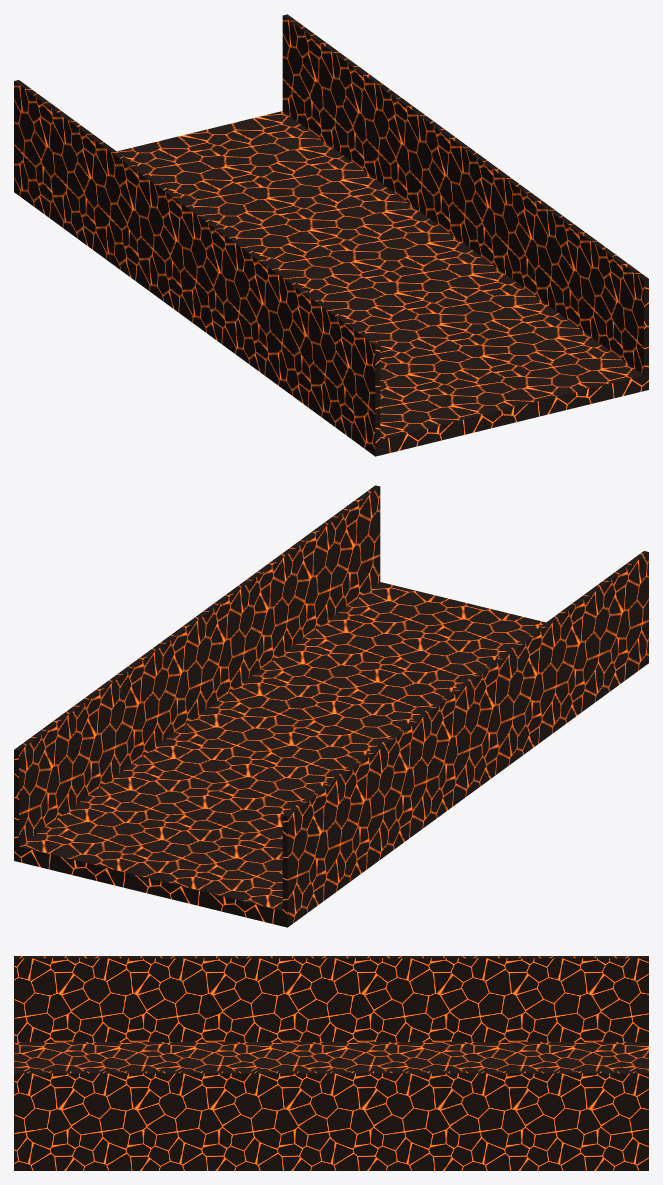
Rendered from climb-skin-5.glb.
3 views of the same model, one above another, from view 1: azimuth 30°, elevation 25°; view 2: azimuth 150°, elevation 25°; view 3: azimuth 270°, elevation 25° (orthographic). The views are drawn at different scales.
Visible parts, largest first — view 1: climb-skin-5; view 2: climb-skin-5; view 3: climb-skin-5.
Boxes of the visible parts, left/top/right/bottom form: climb-skin-5: left=14, top=14, right=648, bottom=456; climb-skin-5: left=14, top=485, right=648, bottom=927; climb-skin-5: left=14, top=956, right=648, bottom=1170.
Bounding box in the file's own units: 3.3 × 1.28 × 7.55.
Materials: 1 (1 with a texture image).
